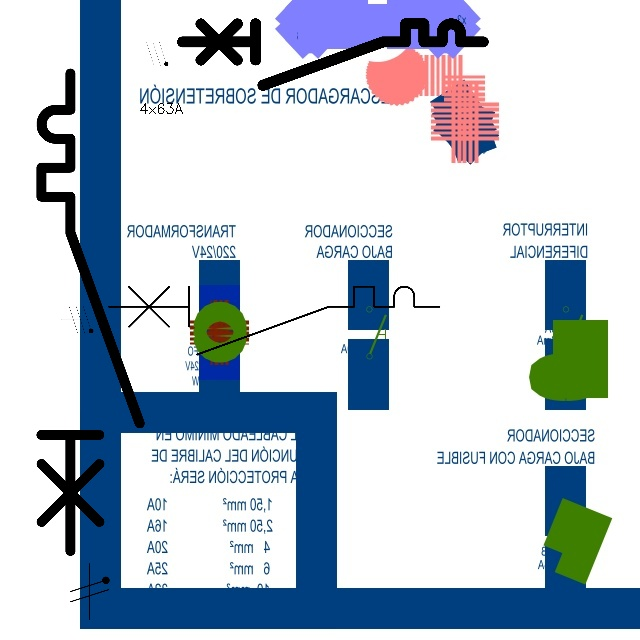interruptor_termomagnetico: (29, 61, 152, 563), (100, 278, 448, 363), (174, 16, 490, 93)
